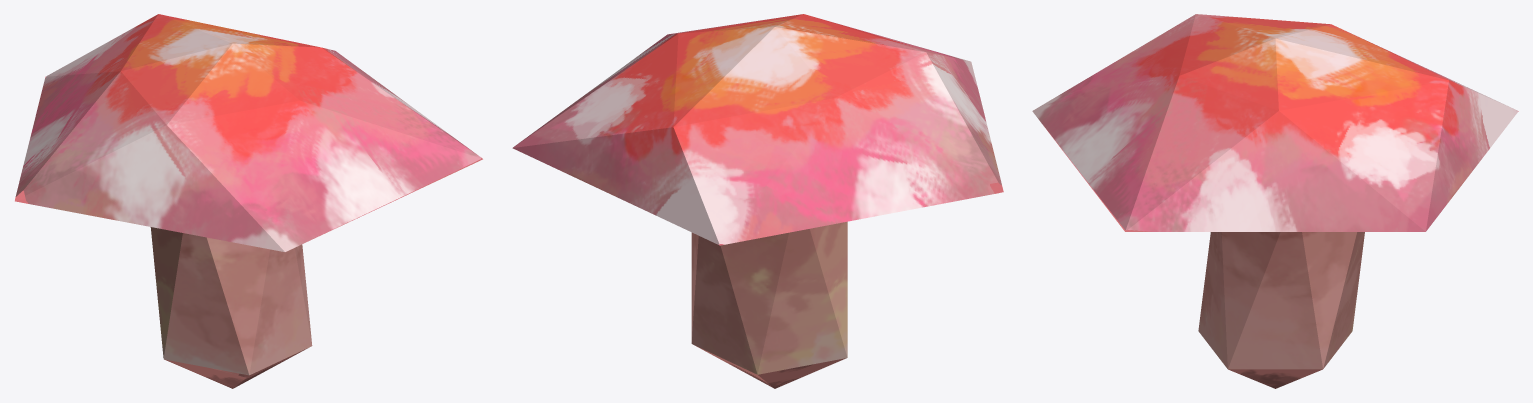
File: mushroom06.fbx
The picture shows the model from 3 angles, left to right: view 1: azimuth 30°, elevation 25°; view 2: azimuth 150°, elevation 25°; view 3: azimuth 270°, elevation 25°; orthographic projection. The views are drawn at different scales.
Parts seen in each view (by area): view 1: mushroom06; view 2: mushroom06; view 3: mushroom06.
Boxes of the visible parts, bbox=[...] form: mushroom06: bbox=[15, 14, 482, 388]; mushroom06: bbox=[512, 14, 1003, 388]; mushroom06: bbox=[1032, 14, 1518, 388].
Bounding box in the file's own units: 92.81 × 77.56 × 97.59.
Materials: 1 (1 with a texture image).
